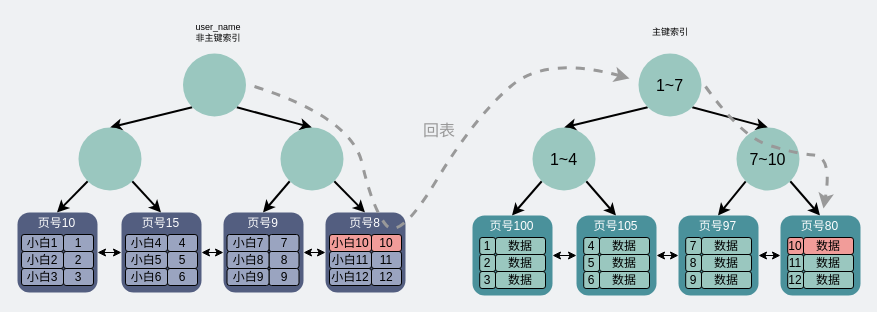
This 877x312 diagram has some shape labels left out. Here are the shapes that lost their labels. From the top down, the box of each, then its label:
(182, 53, 246, 116): 小白 1~7
(78, 127, 141, 190): 小白 1~4
(280, 127, 343, 190): 小白 7~10
